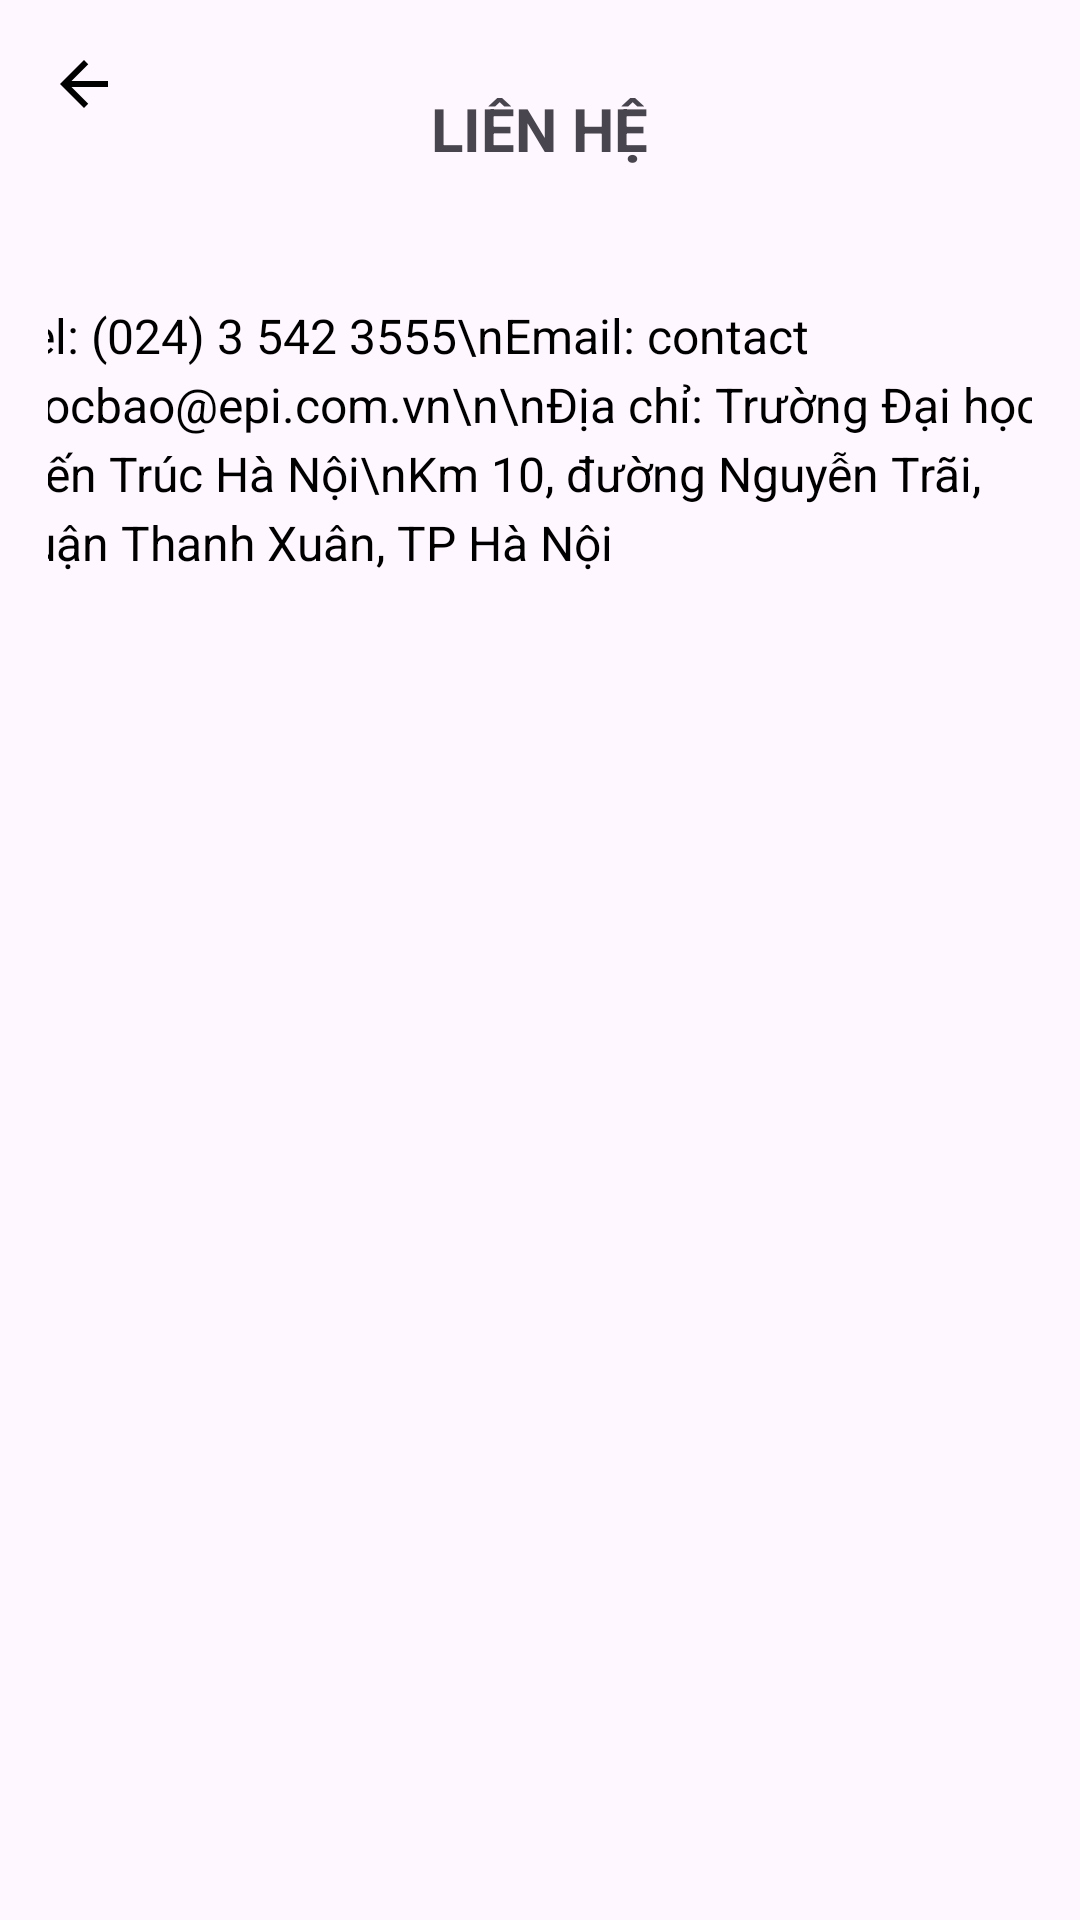

Where to tap for icons on this 1080 × 1920 app screen, as point (x, y):
Quay lại: point (84, 84)
